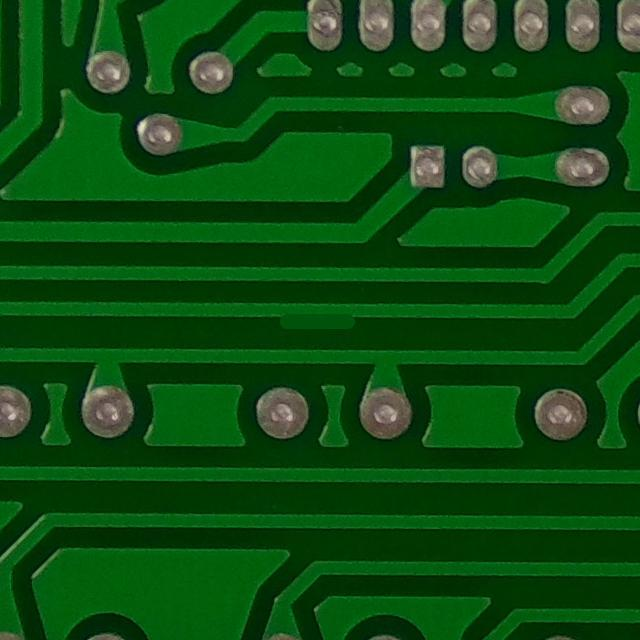spur: (261, 292, 379, 348)
